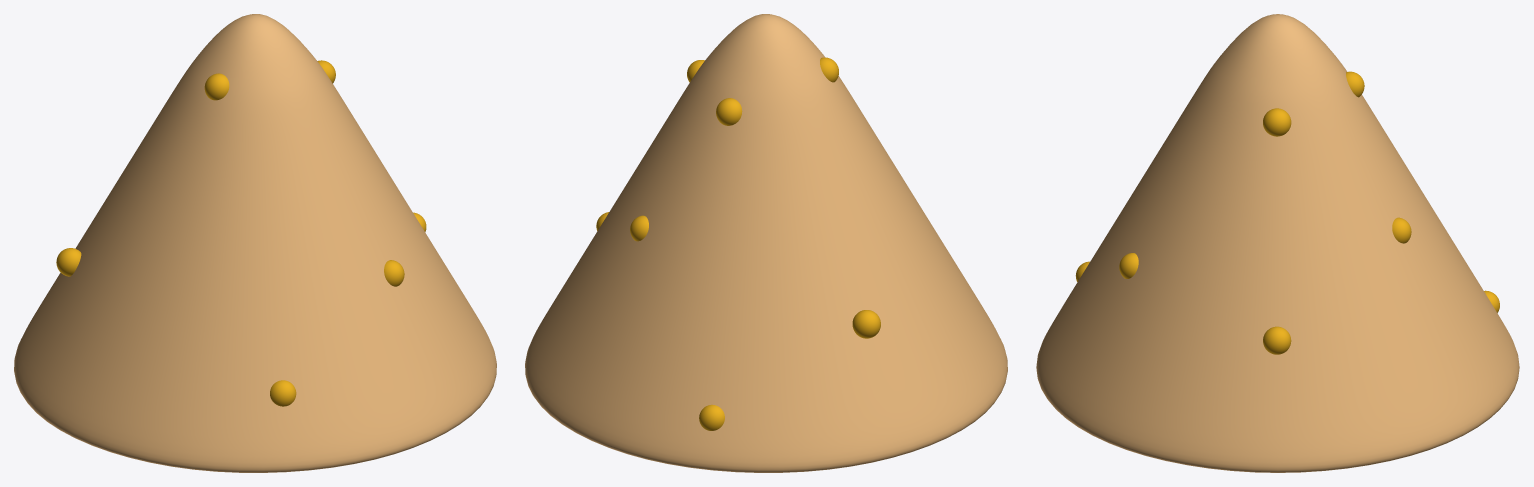
Rendered from MiningSpot1.fbx.
3 renders of one model, left to right at view 1: azimuth 30°, elevation 25°; view 2: azimuth 150°, elevation 25°; view 3: azimuth 270°, elevation 25°, orthographic.
Parts seen in each view (by area): view 1: Cube; view 2: Cube; view 3: Cube.
Part boxes in pixels (x1,y1,x2,y2): Cube: (14, 14, 496, 472); Cube: (525, 14, 1007, 472); Cube: (1036, 14, 1519, 472).
Size of the model in its own units: 211 by 172 by 211.
